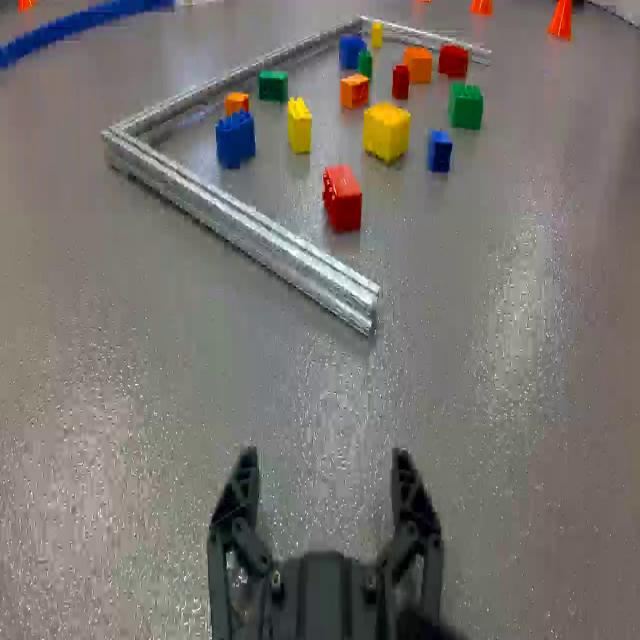block: (362, 100, 412, 164), (287, 96, 313, 154)
blue: (215, 108, 256, 170), (427, 130, 452, 174)
green: (447, 81, 484, 130), (258, 70, 288, 104), (358, 51, 373, 85)
orange: (340, 73, 369, 110), (223, 91, 249, 116)
red goal: (323, 163, 362, 234), (392, 64, 410, 100)
